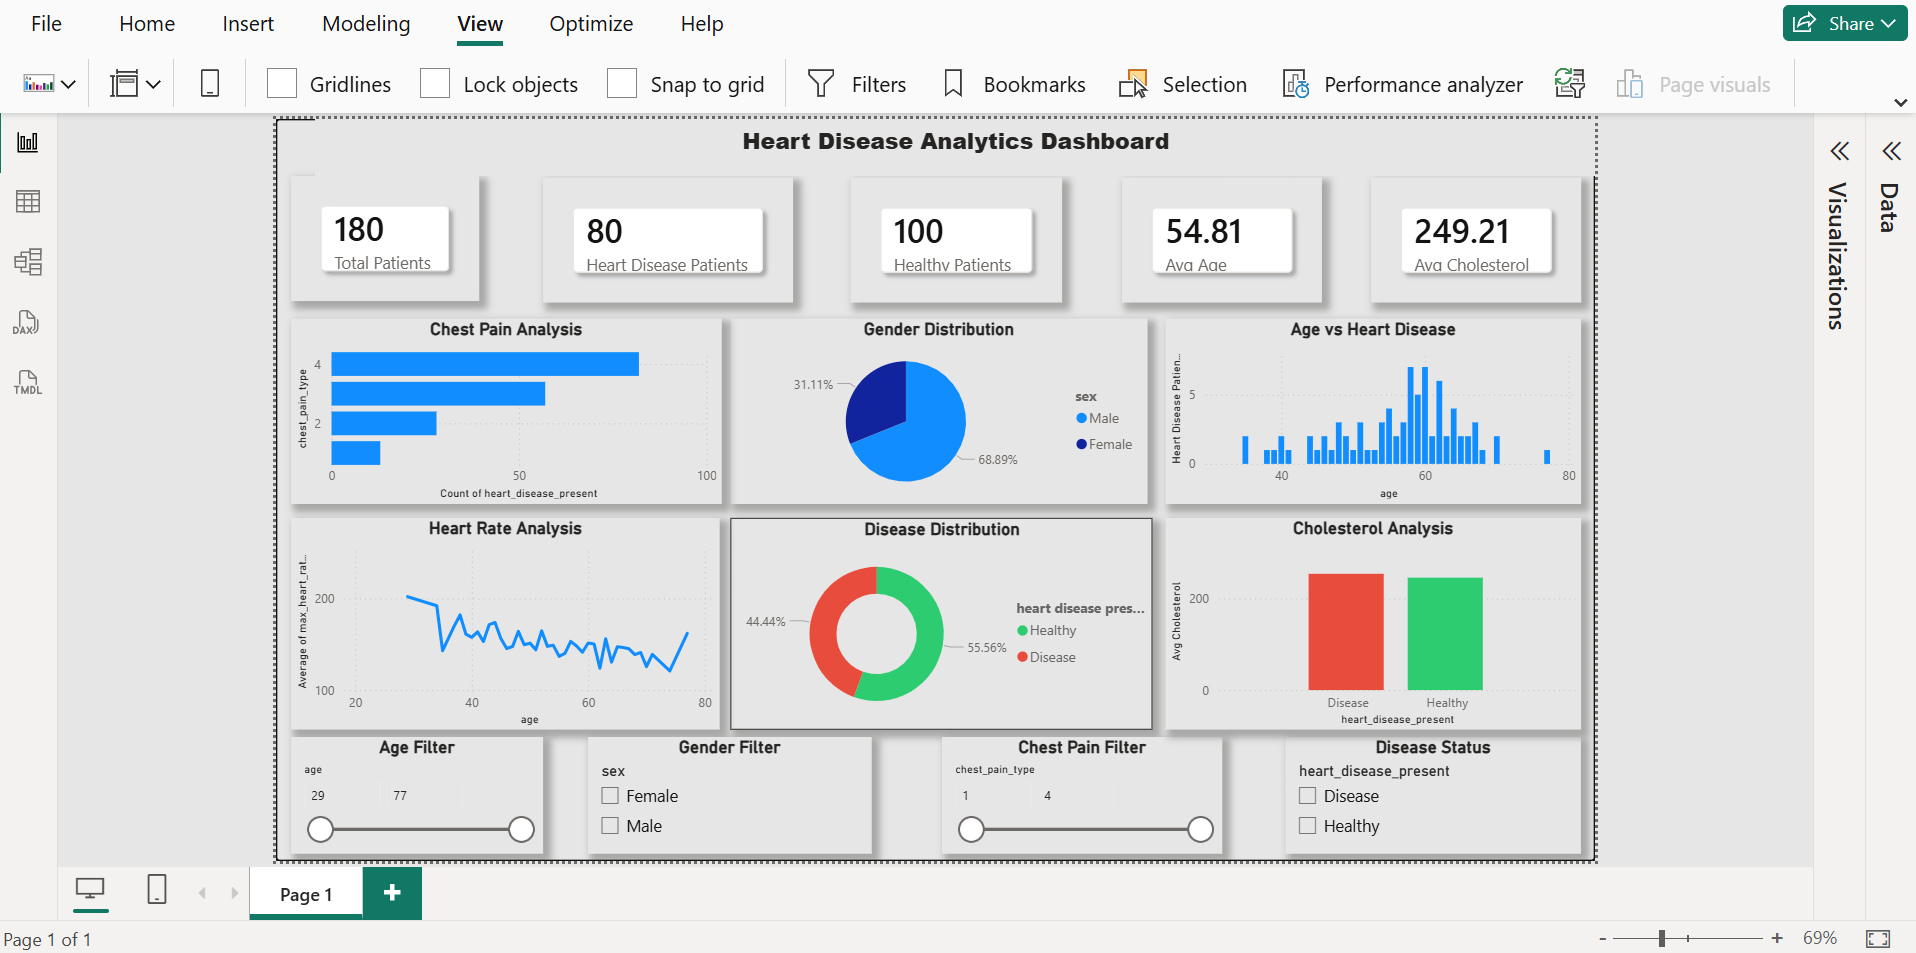

This screenshot's page, from the dashboard's own definition file:
{"tool":"powerbi","page":{"name":"Page 1","canvas":[1280,720],"ordinal":0},"visuals":[{"type":"cardVisual","title":"KPI Cards","fields":{"Data":["heart_disease.Total Patients"]},"box":[14.6,55.1,183,121.4],"z":0},{"type":"pieChart","title":"Gender Distribution","fields":{"Category":["heart_disease.sex"],"Y":["heart_disease.Total Patients"]},"box":[440.4,194.3,404.8,179.7],"z":1000},{"type":"clusteredColumnChart","title":"Age vs Heart Disease","fields":{"Category":["heart_disease.age"],"Y":["heart_disease.Heart Disease Patients"]},"box":[863,194.3,403.2,179.7],"z":2000},{"type":"cardVisual","title":"KPI Cards","fields":{"Data":["heart_disease.Heart Disease Patients"]},"box":[259.1,56.7,242.9,121.4],"z":3000},{"type":"cardVisual","title":"KPI Cards","fields":{"Data":["heart_disease.Healthy Patients"]},"box":[557,56.7,205.6,121.4],"z":4000},{"type":"cardVisual","title":"KPI Cards","fields":{"Data":["heart_disease.Avg Cholesterol"]},"box":[1062.2,56.7,204,121.4],"z":5000},{"type":"cardVisual","title":"KPI Cards","fields":{"Data":["heart_disease.Avg Age"]},"box":[820.9,56.7,194.3,121.4],"z":6000},{"type":"barChart","title":"Chest Pain Analysis","fields":{"Category":["heart_disease.chest_pain_type"],"Y":["CountNonNull(heart_disease.heart_disease_present)"]},"box":[14.6,194.3,417.8,179.7],"z":7000},{"type":"donutChart","title":"Disease Distribution","fields":{"Category":["heart_disease.heart_disease_present"],"Y":["heart_disease.Total Patients"]},"box":[440.4,387,409.7,205.6],"z":8000},{"type":"lineChart","title":"Heart Rate Analysis","fields":{"Category":["heart_disease.age"],"Y":["Avg(heart_disease.max_heart_rate_achieved)"]},"box":[14.6,387,416.1,205.6],"z":9000},{"type":"textbox","box":[37.2,0,1243.6,55.1],"z":10000},{"type":"slicer","title":"Age Filter","fields":{"Values":["heart_disease.age"]},"box":[14.6,599.1,244.5,113.3],"z":11000},{"type":"slicer","title":"Gender Filter","fields":{"Values":["heart_disease.sex"]},"box":[302.8,599.1,275.3,113.3],"z":12000},{"type":"slicer","title":"Chest Pain Filter","fields":{"Values":["heart_disease.chest_pain_type"]},"box":[646.1,599.1,272,113.3],"z":13000},{"type":"slicer","title":"Disease Status","fields":{"Values":["heart_disease.heart_disease_present"]},"box":[979.6,599.1,286.6,113.3],"z":14000},{"type":"clusteredColumnChart","title":"Cholesterol Analysis","fields":{"Category":["heart_disease.heart_disease_present"],"Y":["heart_disease.Avg Cholesterol"]},"box":[863,387,403.2,205.6],"z":15000}]}

Visuals, with their boxes on the page's 1280x720 design canvas (x1, y1, x2, y2). These are canvas units, not pixel positions in the 1916x953 screenshot, which may show the page scaled, cropped or inside an application window:
"KPI Cards" cardVisual: (x1=15, y1=55, x2=198, y2=176)
"Gender Distribution" pieChart: (x1=440, y1=194, x2=845, y2=374)
"Age vs Heart Disease" clusteredColumnChart: (x1=863, y1=194, x2=1266, y2=374)
"KPI Cards" cardVisual: (x1=259, y1=57, x2=502, y2=178)
"KPI Cards" cardVisual: (x1=557, y1=57, x2=763, y2=178)
"KPI Cards" cardVisual: (x1=1062, y1=57, x2=1266, y2=178)
"KPI Cards" cardVisual: (x1=821, y1=57, x2=1015, y2=178)
"Chest Pain Analysis" barChart: (x1=15, y1=194, x2=432, y2=374)
"Disease Distribution" donutChart: (x1=440, y1=387, x2=850, y2=593)
"Heart Rate Analysis" lineChart: (x1=15, y1=387, x2=431, y2=593)
textbox: (x1=37, y1=0, x2=1281, y2=55)
"Age Filter" slicer: (x1=15, y1=599, x2=259, y2=712)
"Gender Filter" slicer: (x1=303, y1=599, x2=578, y2=712)
"Chest Pain Filter" slicer: (x1=646, y1=599, x2=918, y2=712)
"Disease Status" slicer: (x1=980, y1=599, x2=1266, y2=712)
"Cholesterol Analysis" clusteredColumnChart: (x1=863, y1=387, x2=1266, y2=593)
